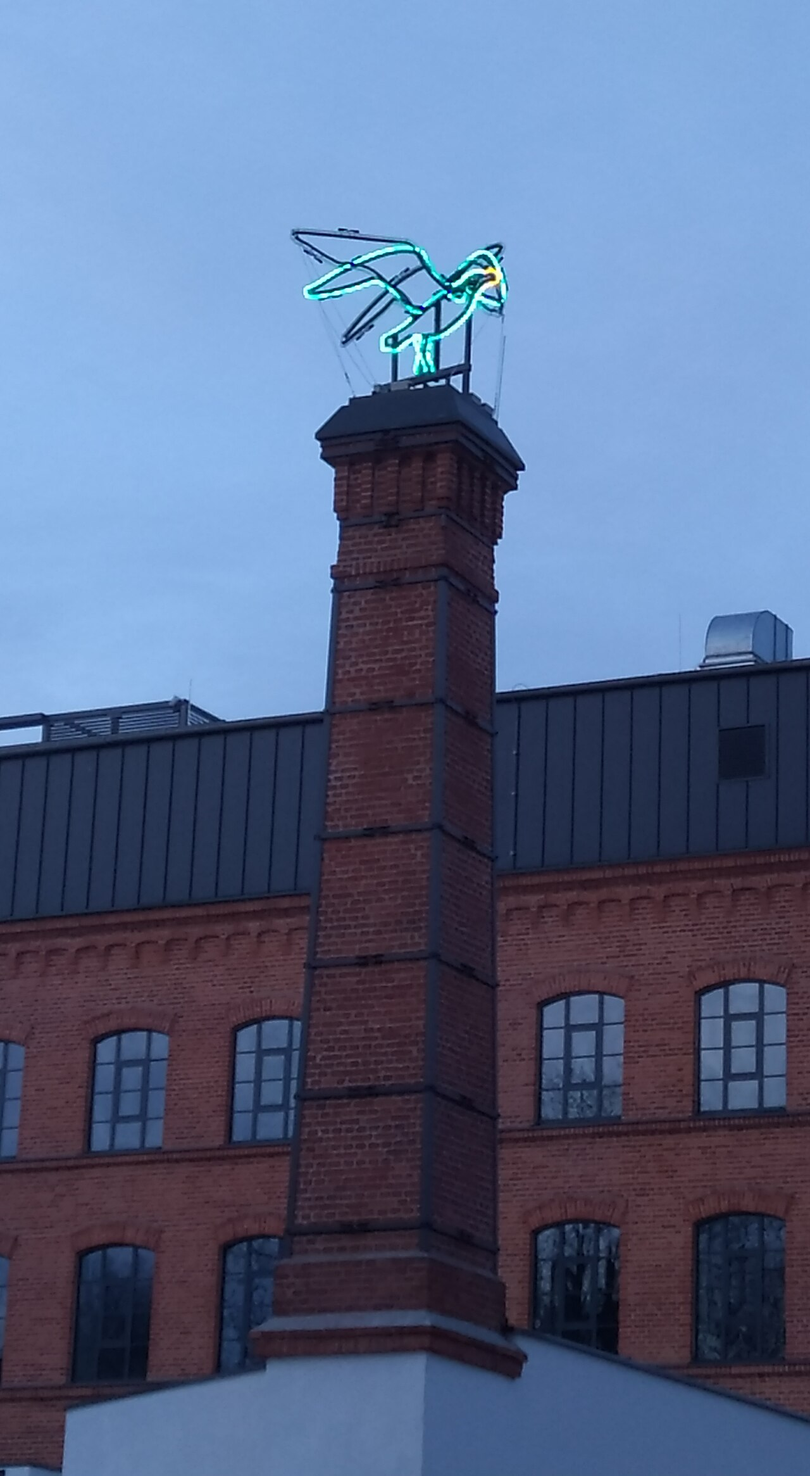bird: (290, 218, 510, 387)
